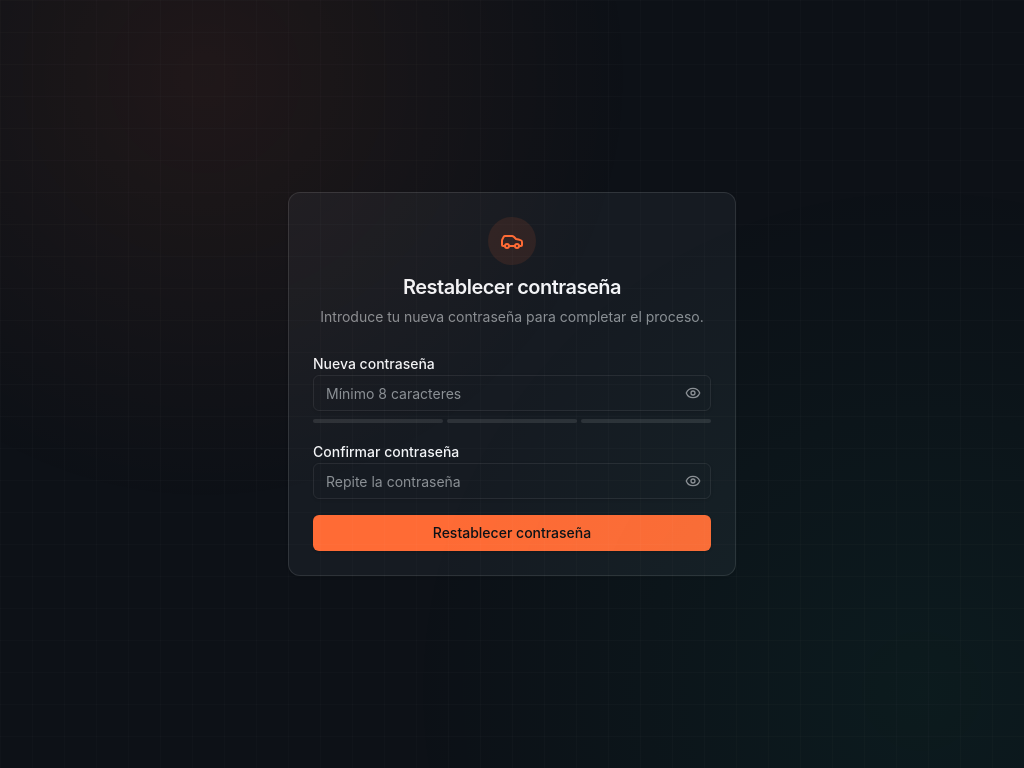
Scenario: ResetPasswordPage › shows a server error when the token is invalid or expired
Type "Password123!" into the password field labelled "Nueva contraseña" at [512, 393], box top-left (313, 375), bottom-right (711, 411)
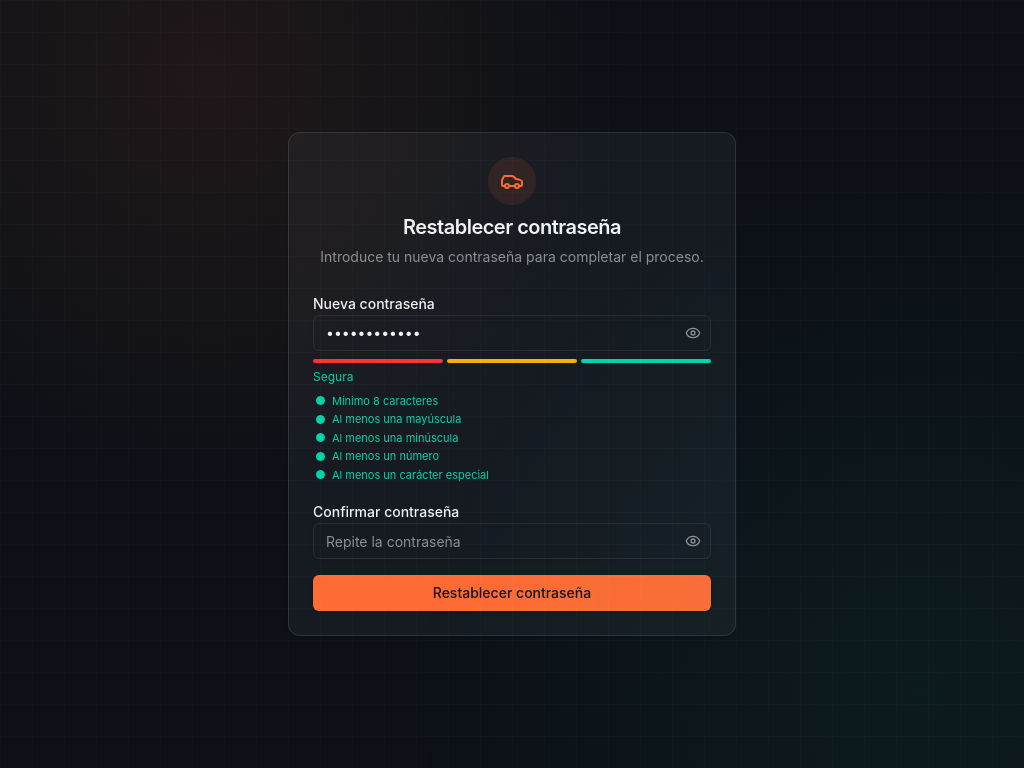
Type "Password123!" into the password field labelled "Confirmar contraseña" at [512, 541], box top-left (313, 523), bottom-right (711, 559)
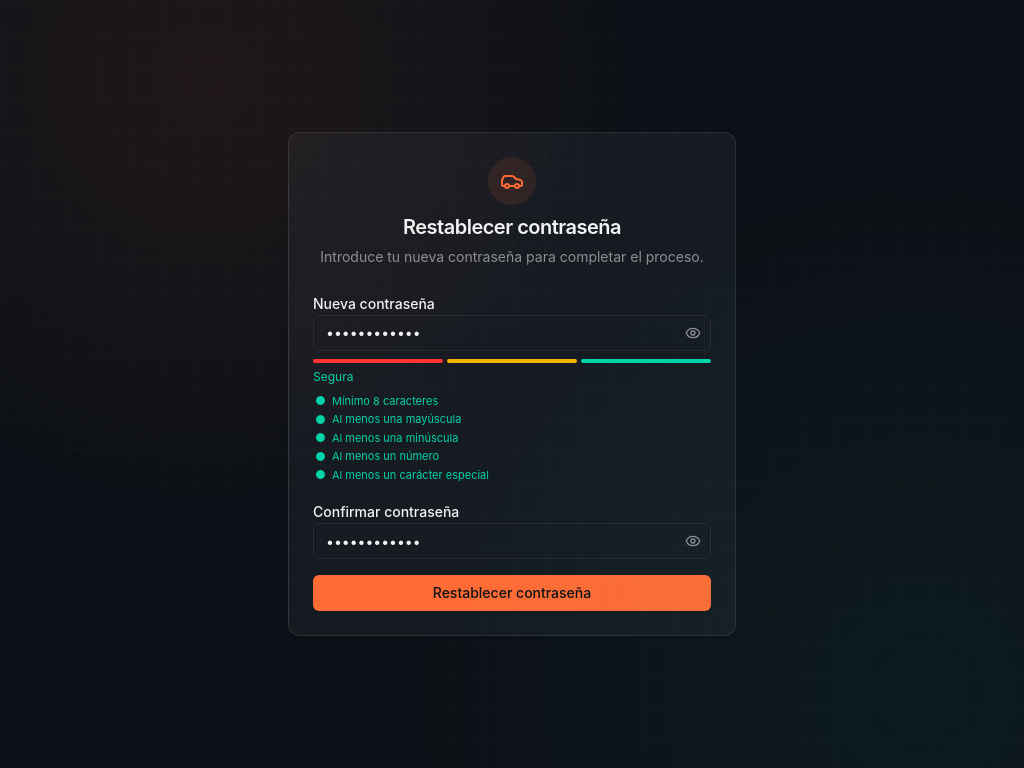
Click the button "Restablecer contraseña" at [512, 593], box top-left (313, 575), bottom-right (711, 611)
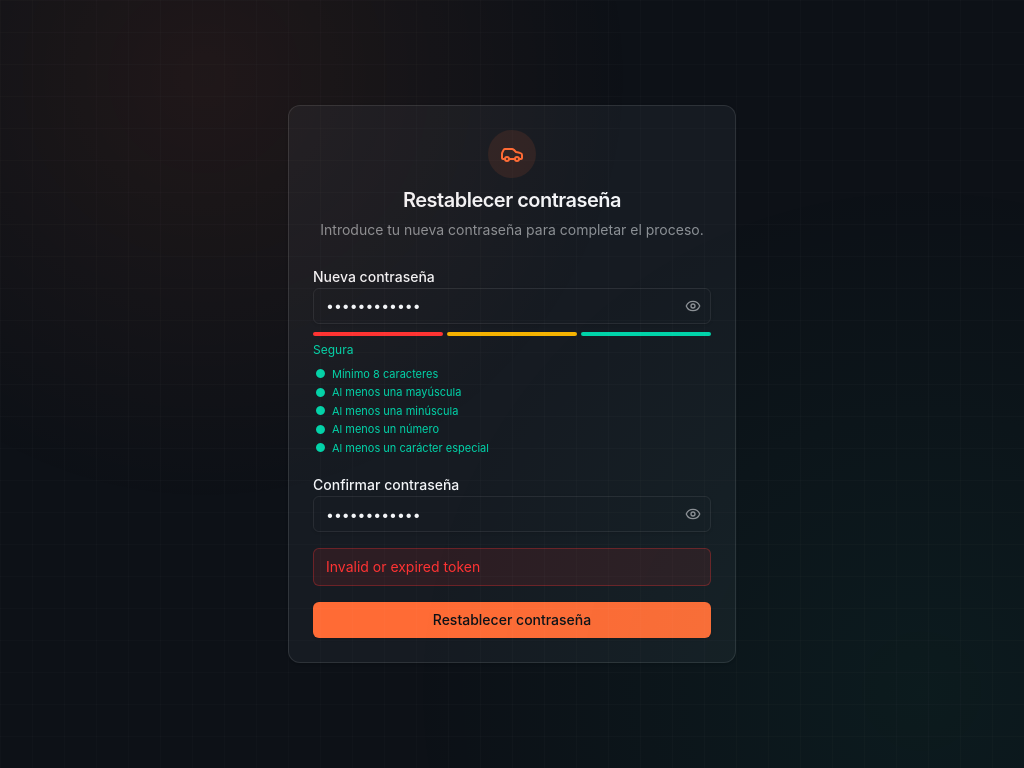
Now the text "Invalid or expired token" is shown, box top-left (313, 548), bottom-right (711, 586)
